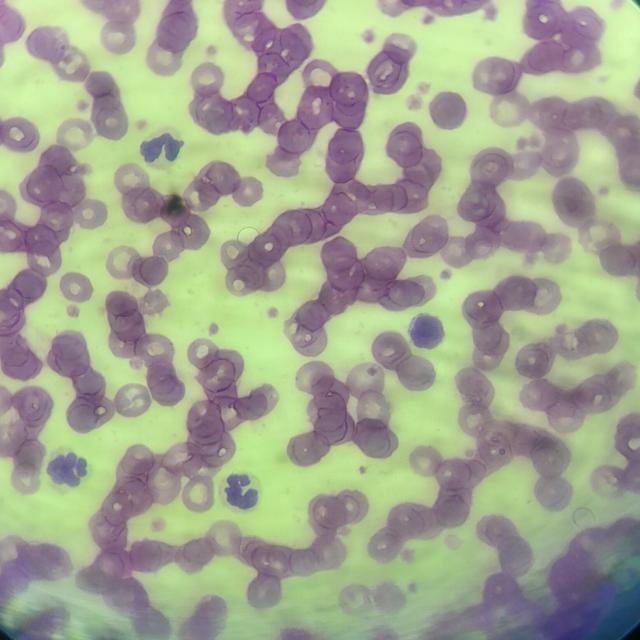Neutrofilo: (137, 126, 183, 174), (221, 468, 264, 513), (42, 450, 89, 490)
